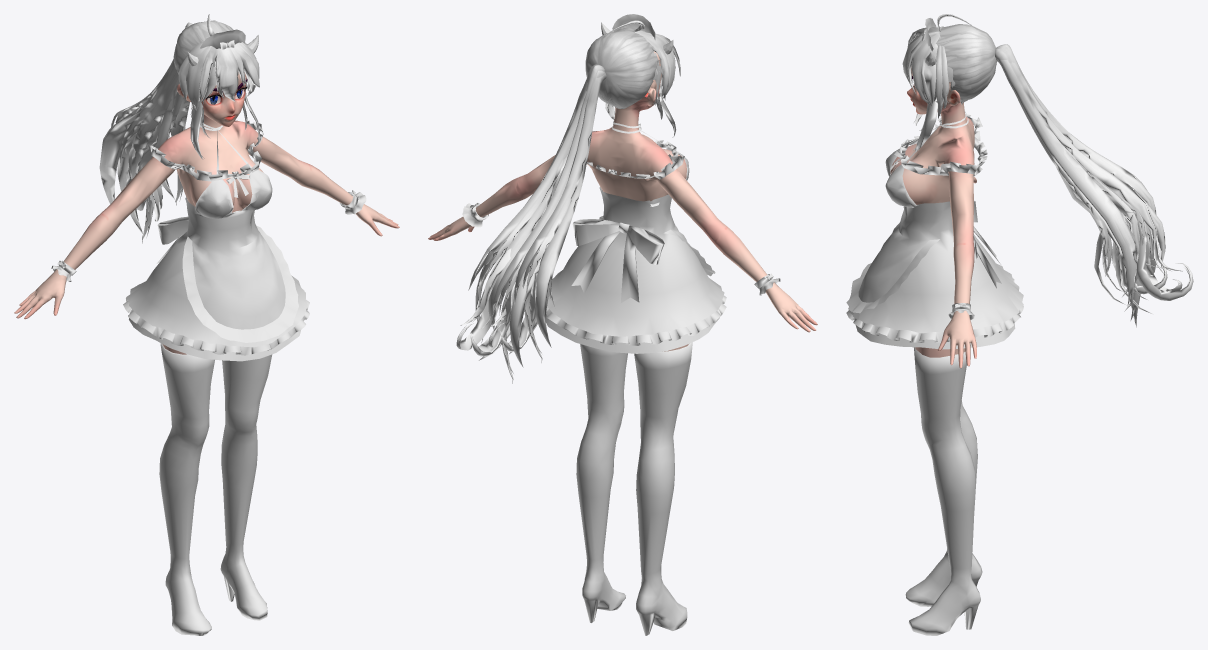
Rendered from Verjinia.fbx.
The picture shows the model from 3 angles, left to right: view 1: azimuth 30°, elevation 25°; view 2: azimuth 150°, elevation 25°; view 3: azimuth 270°, elevation 25°; orthographic projection.
Visible parts, largest first — view 1: Object_412, Object_412.003, Body.002, ツイン0.001, Object_412.002, Object_412.001; view 2: Object_412, ツイン0.001, Object_412.003, Body.002, Object_412.001; view 3: ツイン0.001, Object_412, Object_412.003, Body.002, Object_412.002.
Part boxes in pixels (x1=…): Object_412: x1=51, y1=121, x2=366, y2=361; Object_412.003: x1=159, y1=343, x2=272, y2=635; Body.002: x1=14, y1=72, x2=399, y2=354; ツイン0.001: x1=99, y1=14, x2=260, y2=243; Object_412.002: x1=185, y1=123, x2=272, y2=218; Object_412.001: x1=187, y1=29, x2=258, y2=66; Object_412: x1=462, y1=140, x2=780, y2=353; ツイン0.001: x1=456, y1=20, x2=680, y2=383; Object_412.003: x1=576, y1=342, x2=692, y2=635; Body.002: x1=428, y1=51, x2=817, y2=351; Object_412.001: x1=601, y1=14, x2=673, y2=54; ツイン0.001: x1=902, y1=14, x2=1193, y2=327; Object_412: x1=846, y1=114, x2=1023, y2=349; Object_412.003: x1=905, y1=347, x2=982, y2=635; Body.002: x1=890, y1=66, x2=976, y2=368; Object_412.002: x1=885, y1=111, x2=968, y2=207.
Size of the model in its own units: 576 by 860 by 451.
